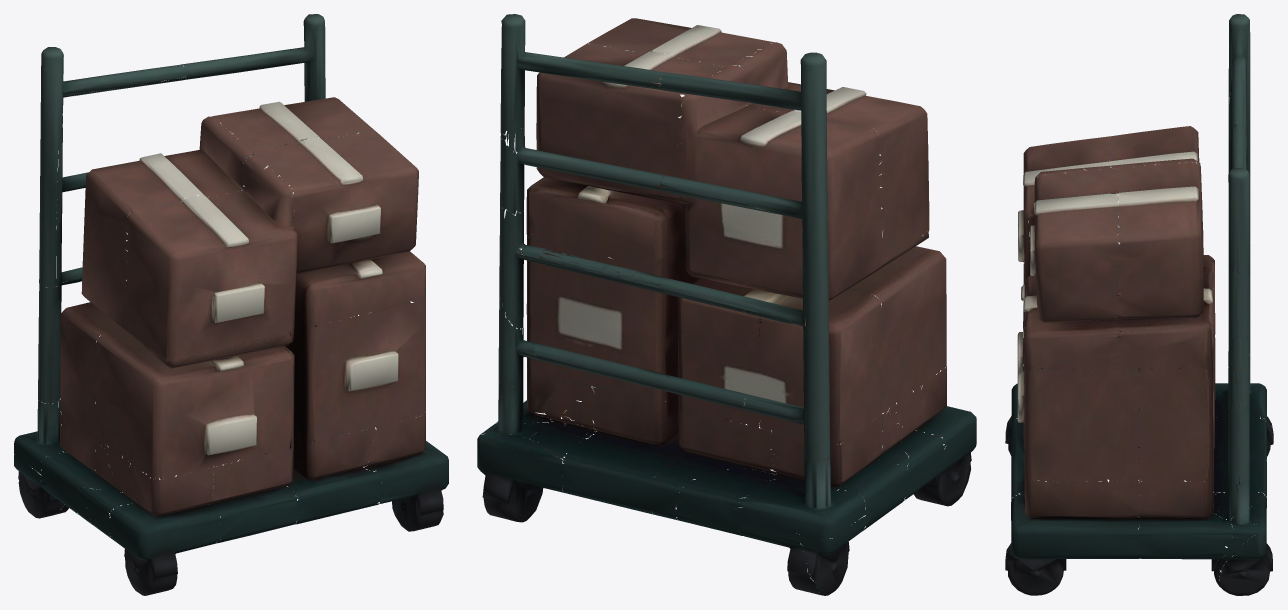
The model's file is model-C4zuGBt0.glb.
3 renders of one model, left to right at view 1: azimuth 30°, elevation 25°; view 2: azimuth 150°, elevation 25°; view 3: azimuth 270°, elevation 25°, orthographic. The views are drawn at different scales.
Parts seen in each view (by area): view 1: world; view 2: world; view 3: world.
Boxes of the visible parts, x1,y1,x2,y2 form: world: (14,14,448,595); world: (477,14,976,595); world: (1005,14,1273,595).
Size of the model in its own units: 1.32 by 1.88 by 1.01.
1 material, 1 textured.
